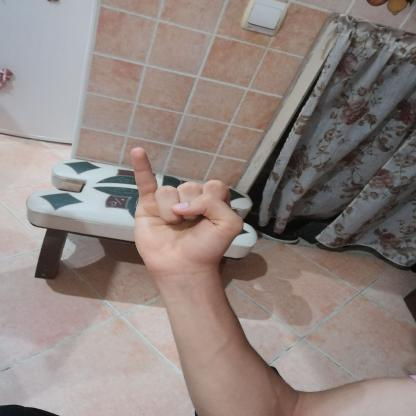MEEM: (107, 132, 258, 286)
